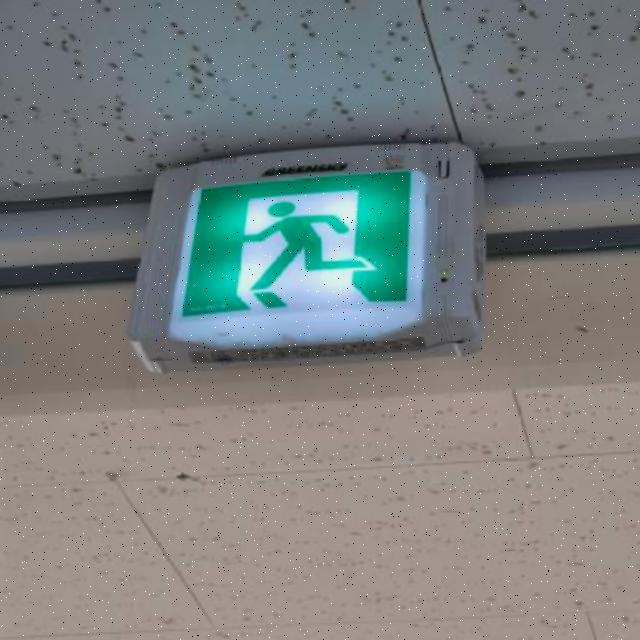emergency_exit: (129, 141, 487, 371), (168, 166, 431, 349)
